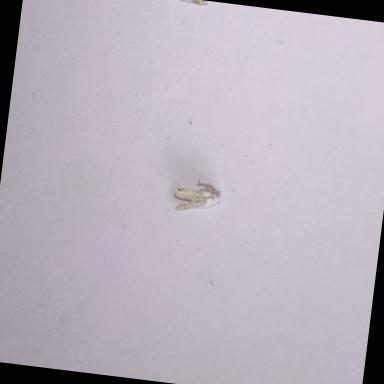pbw: (170, 178, 224, 218)
